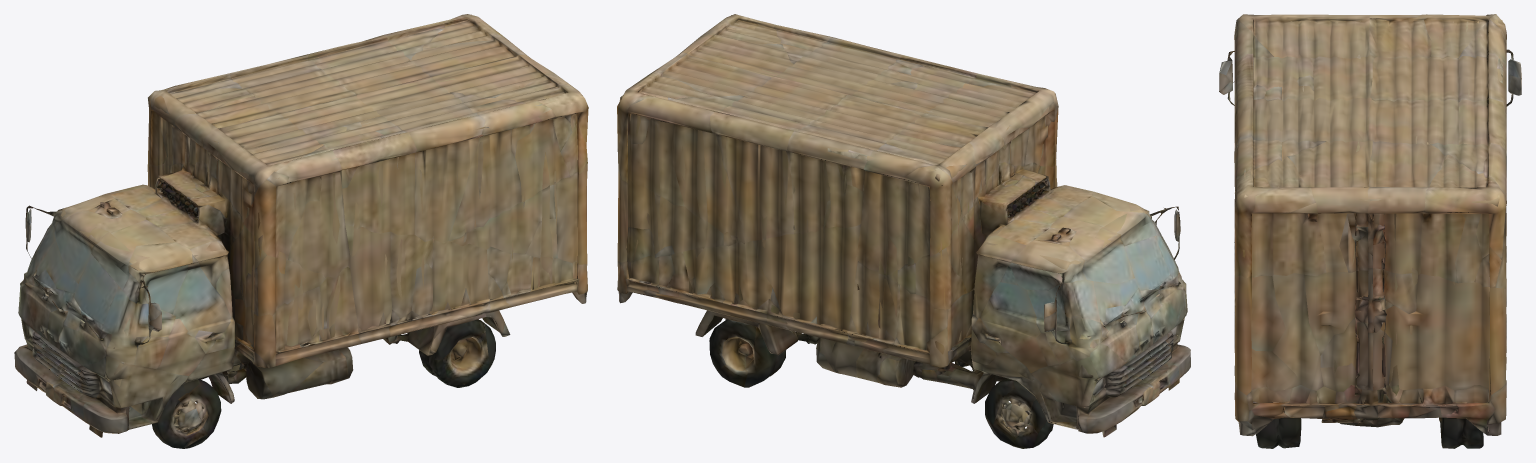
Rendered from car_delivery_light_q3.glb.
3 renders of one model, left to right at view 1: azimuth 30°, elevation 25°; view 2: azimuth 150°, elevation 25°; view 3: azimuth 270°, elevation 25°, orthographic. The views are drawn at different scales.
Size of the model in its own units: 4.59 by 2.5 by 2.17.
1 material, 1 textured.
